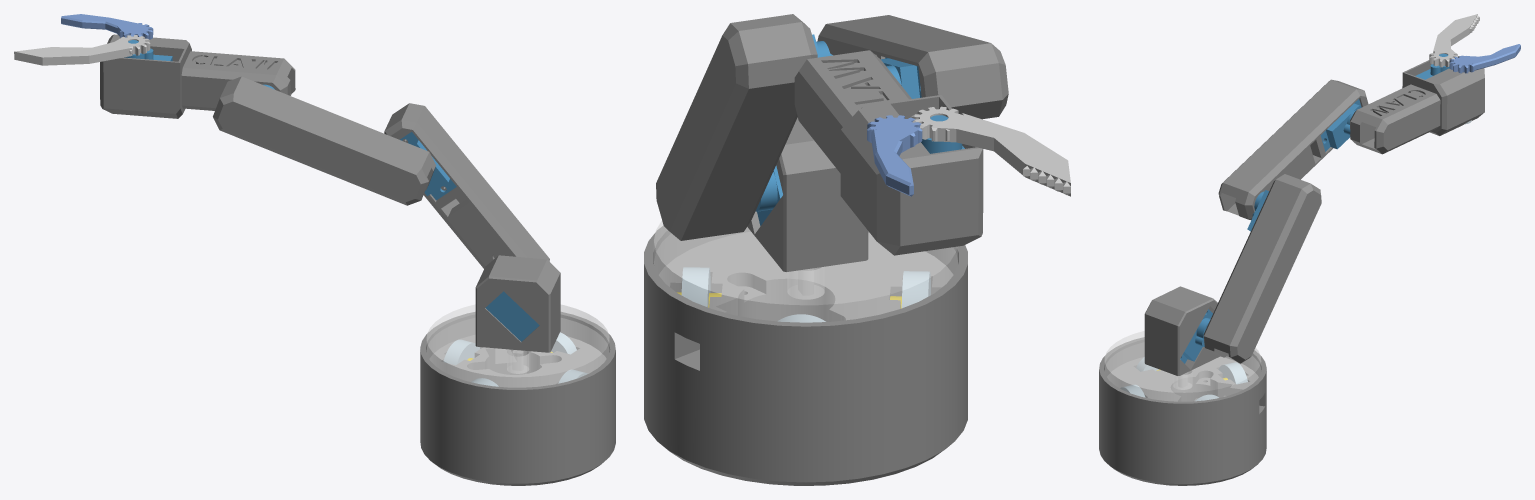
3 views of the same model, side by side, from view 1: azimuth 30°, elevation 25°; view 2: azimuth 150°, elevation 25°; view 3: azimuth 270°, elevation 25° (orthographic). The views are drawn at different scales.
Visible parts, largest first — view 1: ID18 (×5), ID87, ID10, ID26 (×2), ID79; view 2: ID18 (×5), ID87, ID10, ID79, ID26 (×3), ID41 (×2); view 3: ID18 (×5), ID87, ID26 (×2), ID10, ID79.
Part boxes in pixels (left/top/right/bottom): ID18 (×5): left=100, top=34, right=615, bottom=485; ID87: left=426, top=304, right=609, bottom=387; ID10: left=14, top=35, right=150, bottom=65; ID26 (×2): left=400, top=132, right=539, bottom=341; ID79: left=61, top=14, right=153, bottom=39; ID18 (×5): left=644, top=14, right=1008, bottom=485; ID87: left=653, top=221, right=958, bottom=322; ID10: left=911, top=106, right=1070, bottom=196; ID79: left=867, top=115, right=922, bottom=196; ID26 (×3): left=755, top=57, right=964, bottom=225; ID41 (×2): left=681, top=267, right=930, bottom=307; ID18 (×5): left=1099, top=56, right=1484, bottom=485; ID87: left=1104, top=331, right=1261, bottom=401; ID26 (×2): left=1180, top=99, right=1361, bottom=363; ID10: left=1429, top=14, right=1479, bottom=67; ID79: left=1449, top=44, right=1520, bottom=73.
Bounding box in the file's own units: 0.2137 × 0.172 × 0.219.
